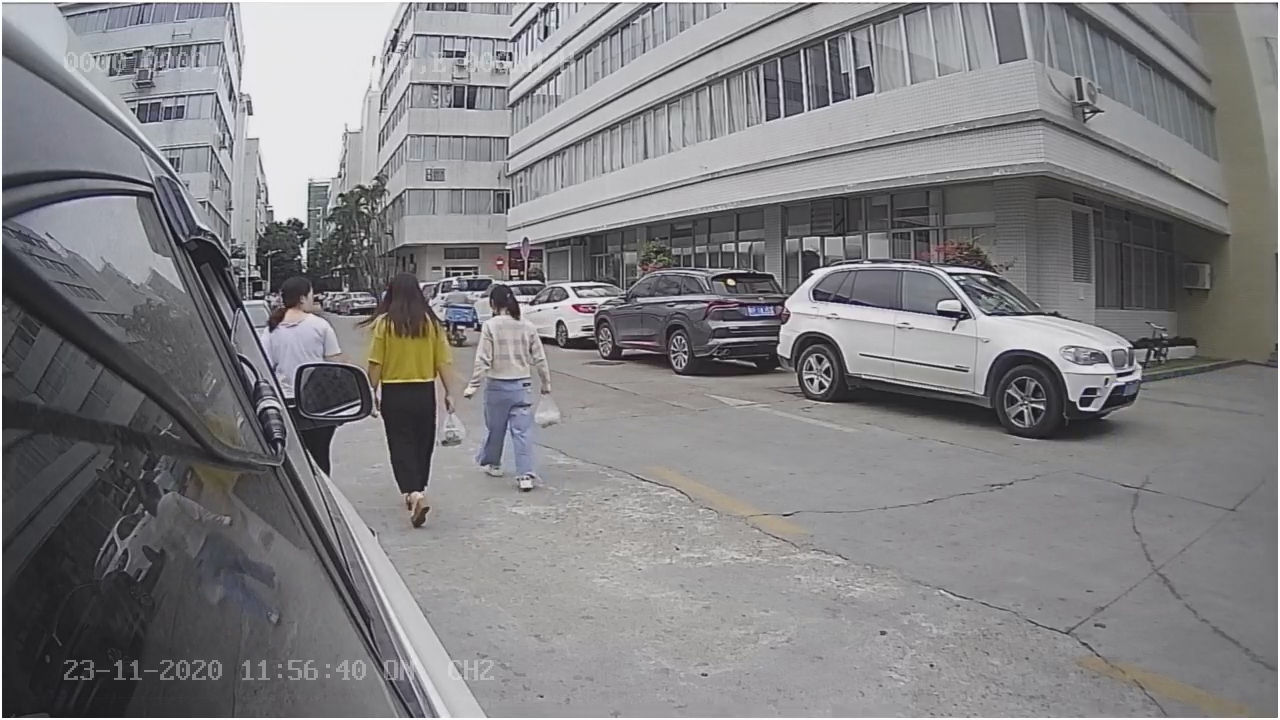person: (367, 268, 467, 534), (459, 284, 570, 501), (269, 270, 354, 362)
